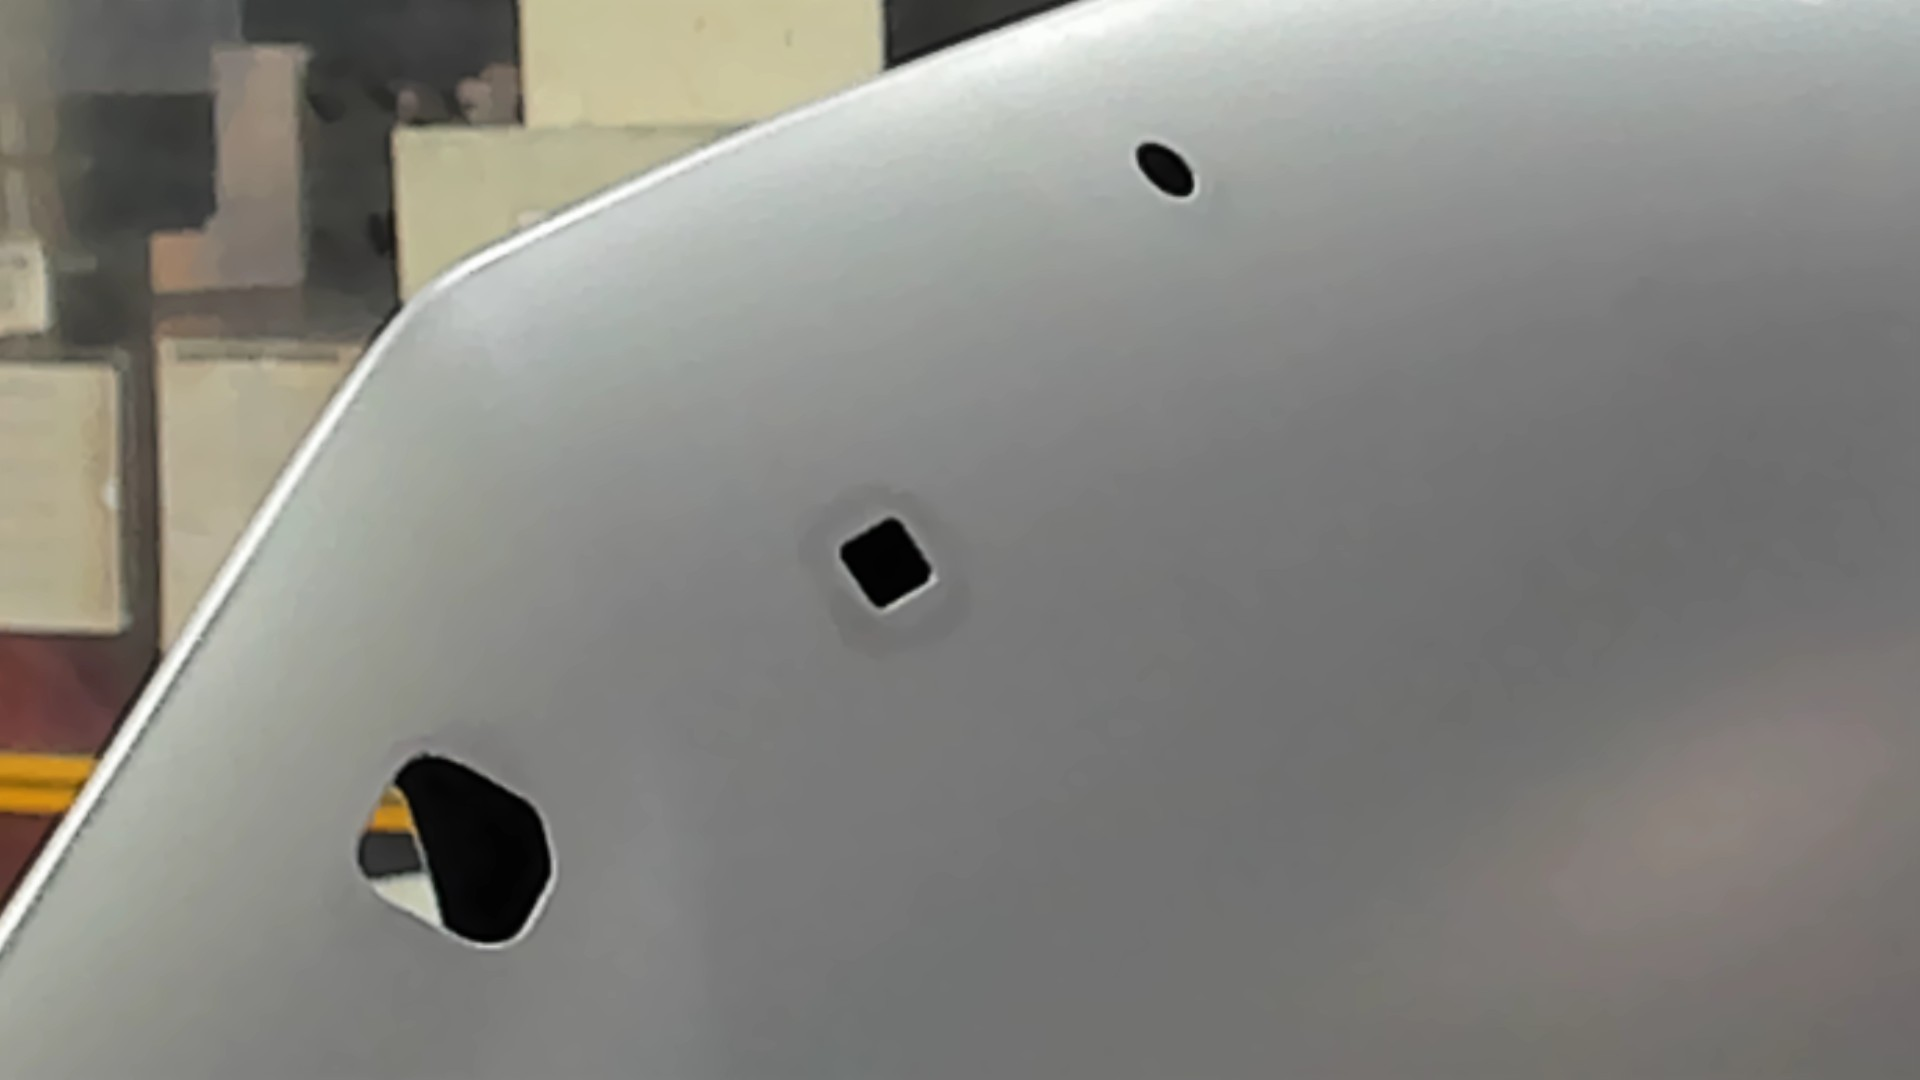capo: (952, 212, 1920, 1080)
chico: (1133, 138, 1200, 200)
grande: (351, 745, 559, 957)
mediano: (832, 510, 943, 618)
